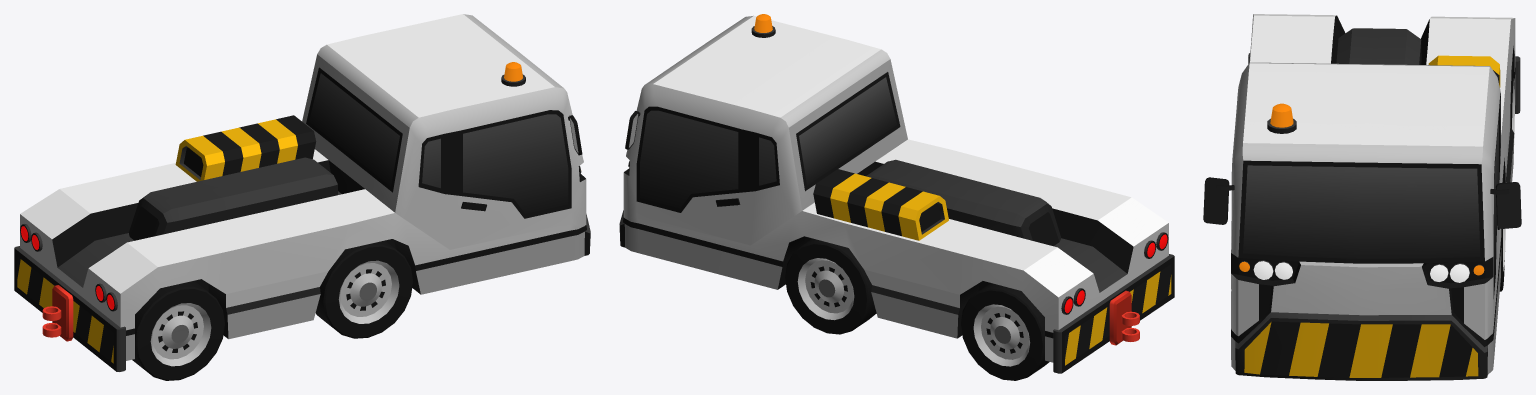
Rendered from Emergency_005.glb.
3 views of the same model, side by side, from view 1: azimuth 30°, elevation 25°; view 2: azimuth 150°, elevation 25°; view 3: azimuth 270°, elevation 25° (orthographic). The views are drawn at different scales.
Parts seen in each view (by area): view 1: Emergency_005, wheel_3_Emergency_005_Wheel_4R, wheel_1_Emergency_005_Wheel_2R; view 2: Emergency_005, wheel_2_Emergency_005_Wheel_3L, wheel_0_Emergency_005_Wheel_1L; view 3: Emergency_005, wheel_2_Emergency_005_Wheel_3L, wheel_0_Emergency_005_Wheel_1L.
Part boxes in pixels (x1=…): Emergency_005: x1=14, y1=14, x2=590, y2=371; wheel_3_Emergency_005_Wheel_4R: x1=132, y1=281, x2=224, y2=380; wheel_1_Emergency_005_Wheel_2R: x1=315, y1=240, x2=413, y2=338; Emergency_005: x1=619, y1=14, x2=1174, y2=373; wheel_2_Emergency_005_Wheel_3L: x1=961, y1=283, x2=1049, y2=380; wheel_0_Emergency_005_Wheel_1L: x1=785, y1=238, x2=876, y2=334; Emergency_005: x1=1203, y1=14, x2=1521, y2=380; wheel_2_Emergency_005_Wheel_3L: x1=1510, y1=58, x2=1514, y2=153; wheel_0_Emergency_005_Wheel_1L: x1=1499, y1=169, x2=1505, y2=291.
Size of the model in its own units: 6.02 by 2.59 by 2.73.
Materials: 2 (2 with a texture image).
